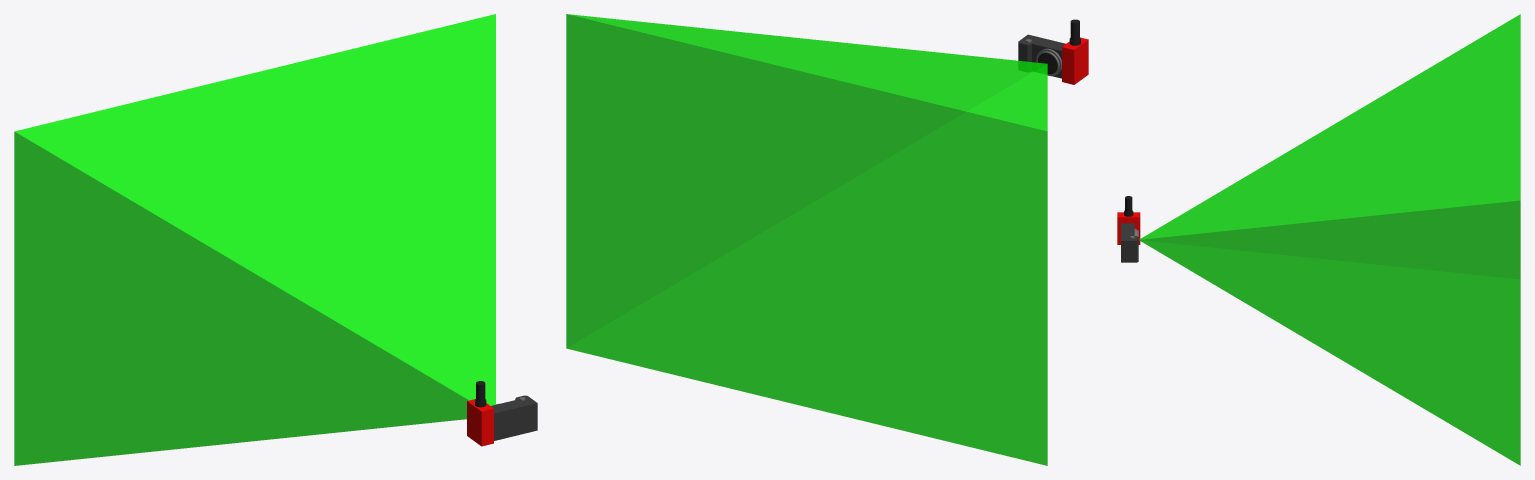
The model's file is DrobitGreen.dae.
The picture shows the model from 3 angles, left to right: view 1: azimuth 30°, elevation 25°; view 2: azimuth 150°, elevation 25°; view 3: azimuth 270°, elevation 25°; orthographic projection. The views are drawn at different scales.
Visible parts, largest first — view 1: group_10, group_7, group_3; view 2: group_10, group_3, group_7; view 3: group_10, group_7, group_3.
Boxes of the visible parts, x1,y1,x2,y2 form: group_10: (14,14,495,465); group_7: (491,395,537,440); group_3: (467,399,493,446); group_10: (566,14,1047,465); group_3: (1062,37,1088,84); group_7: (1018,34,1065,78); group_10: (1139,14,1520,465); group_7: (1121,223,1138,262); group_3: (1117,212,1140,244).
Size of the model in its own units: 45.46 by 41.56 by 30.18.
